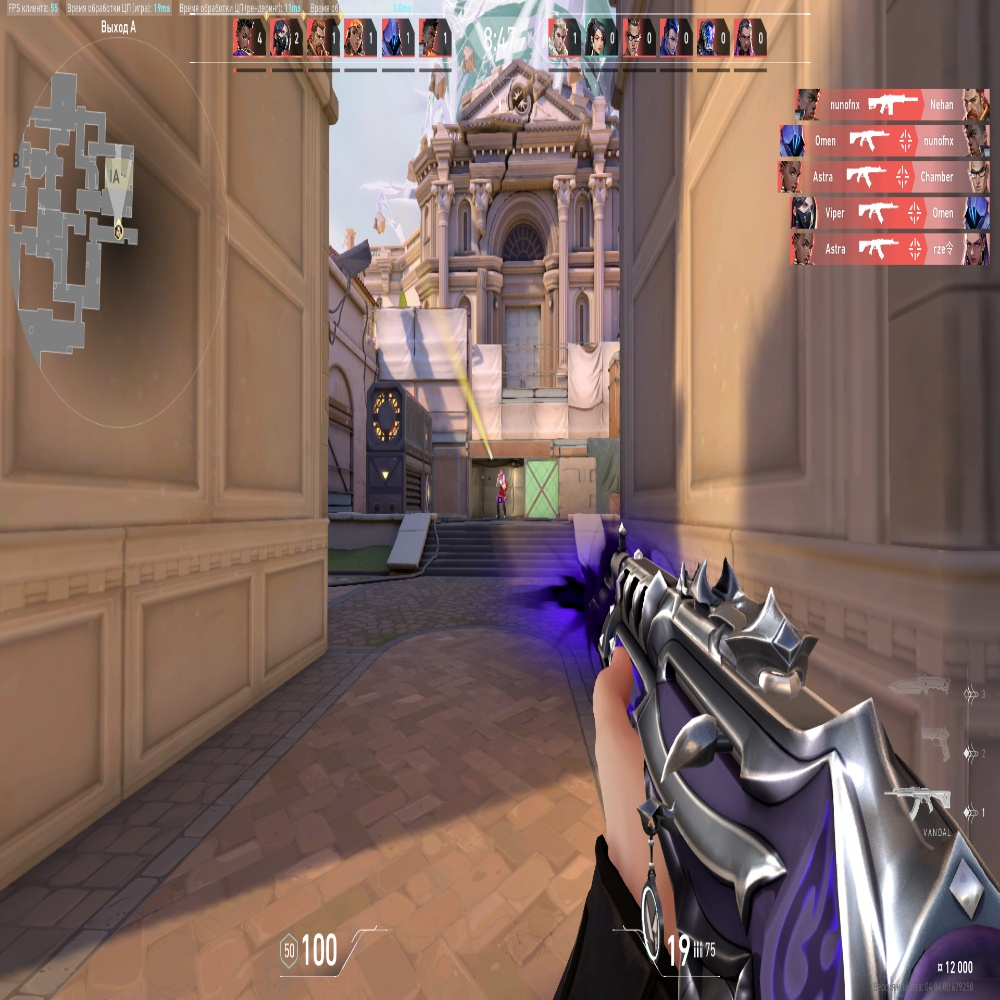body: (496, 477, 506, 494)
head: (499, 469, 503, 476)
